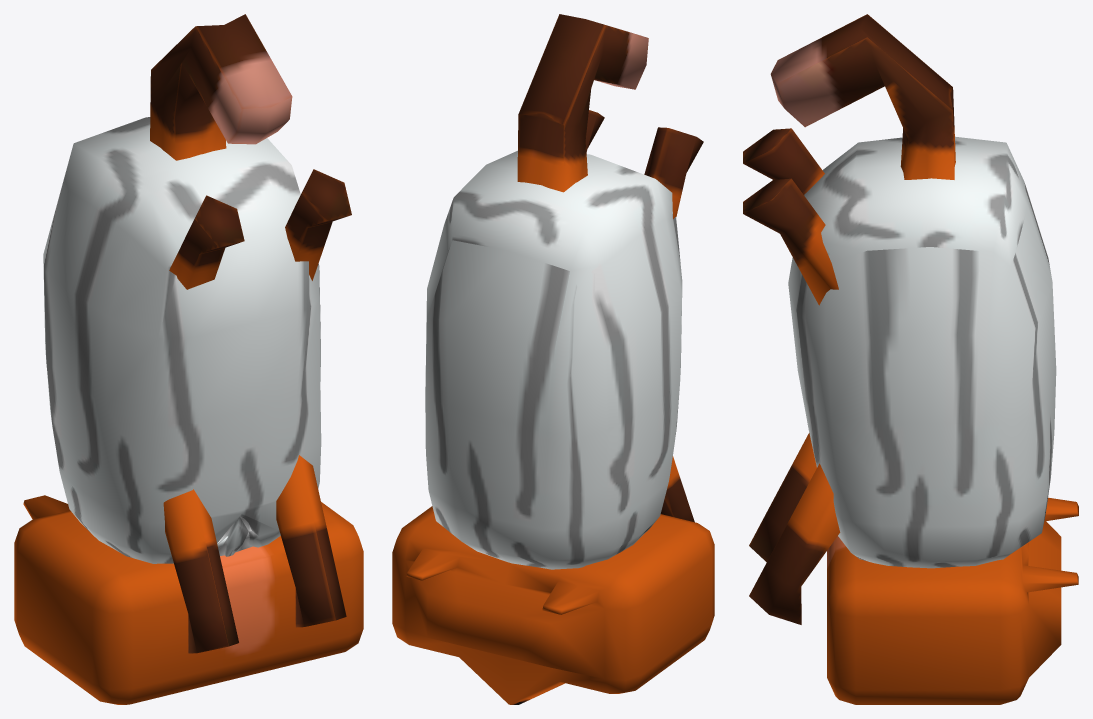
File: item-fencegun.glb
3 views of the same model, side by side, from view 1: azimuth 30°, elevation 25°; view 2: azimuth 150°, elevation 25°; view 3: azimuth 270°, elevation 25° (orthographic). The views are drawn at different scales.
Size of the model in its own units: 2 by 4.93 by 2.26.
Materials: 4 (2 with a texture image).
